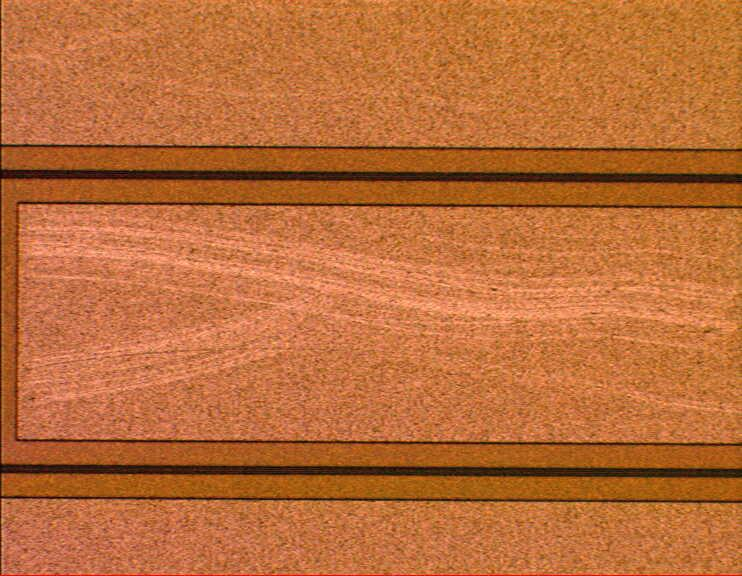SCRATCH: (9, 204, 742, 418)
